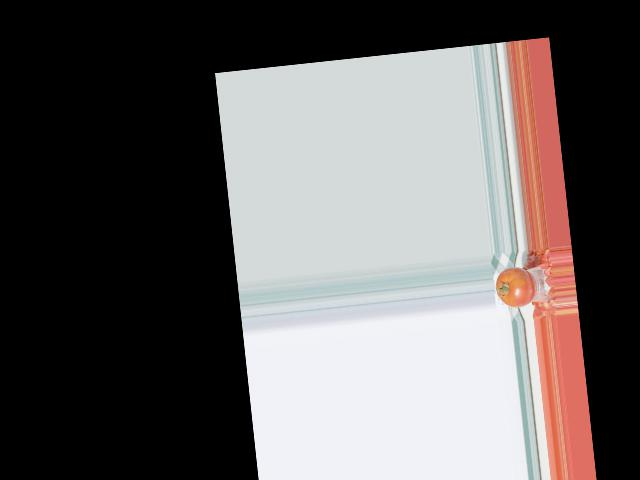tomato: (493, 265, 537, 310)
